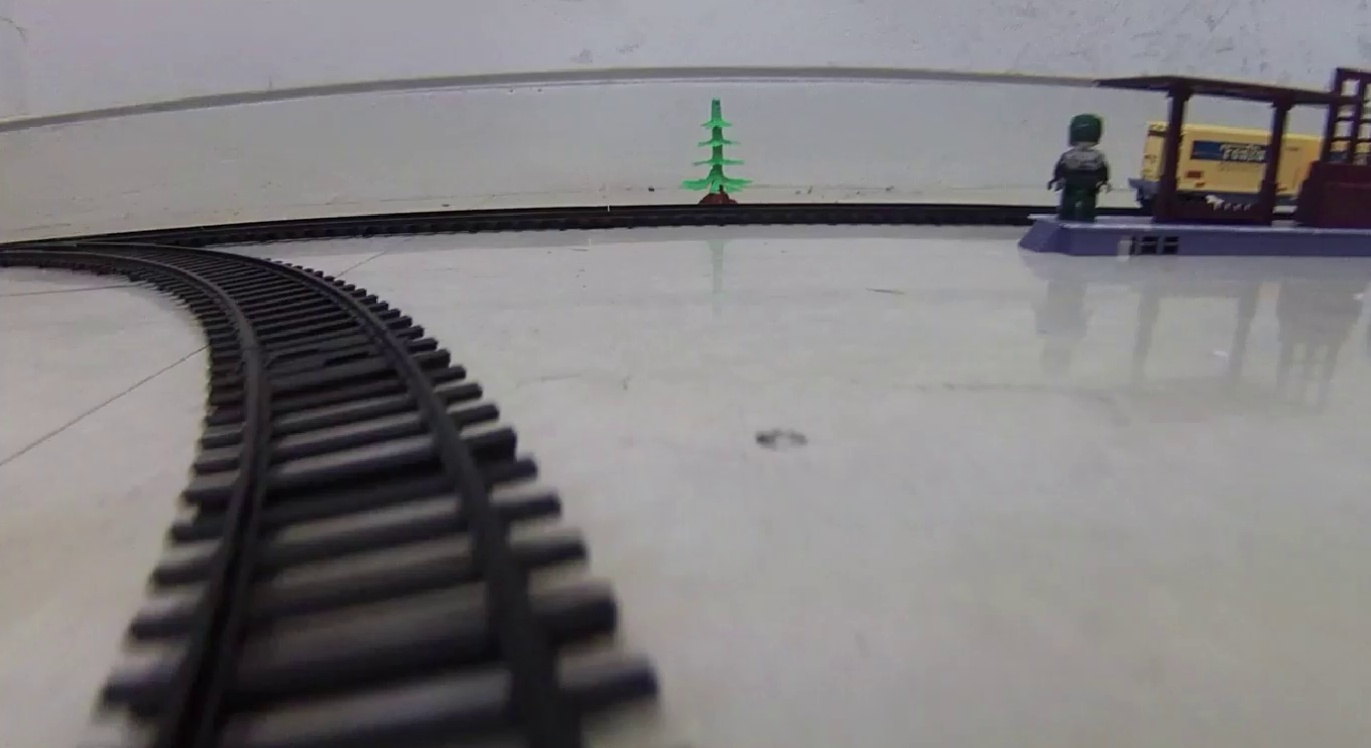people: (1050, 113, 1113, 223)
tree: (678, 96, 752, 203)
